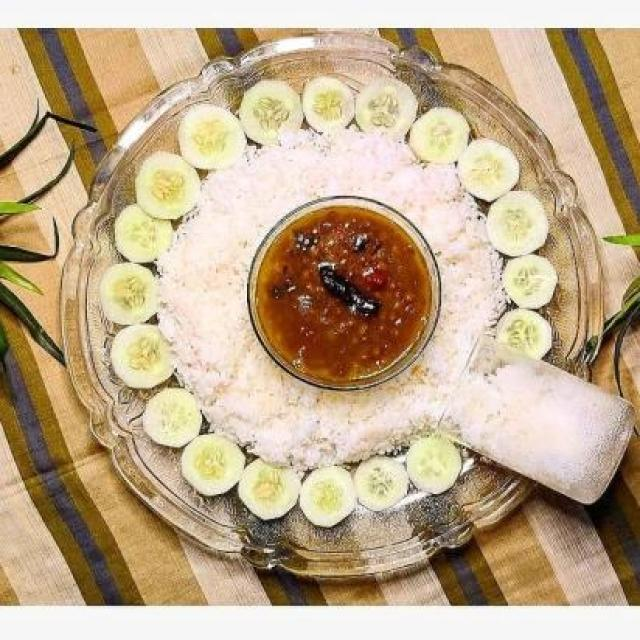dal: (233, 198, 452, 388)
